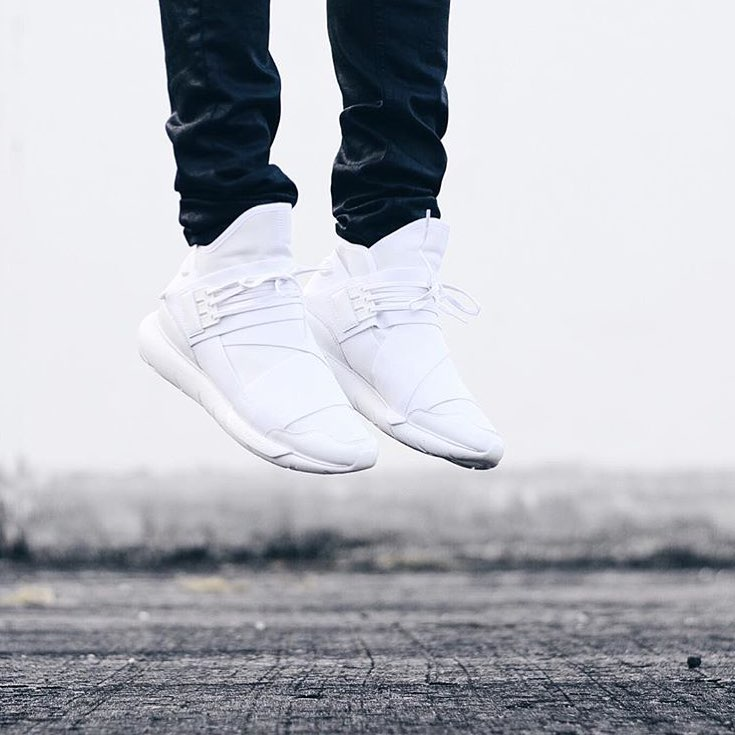sneaker: (105, 189, 403, 496), (275, 199, 543, 499)
